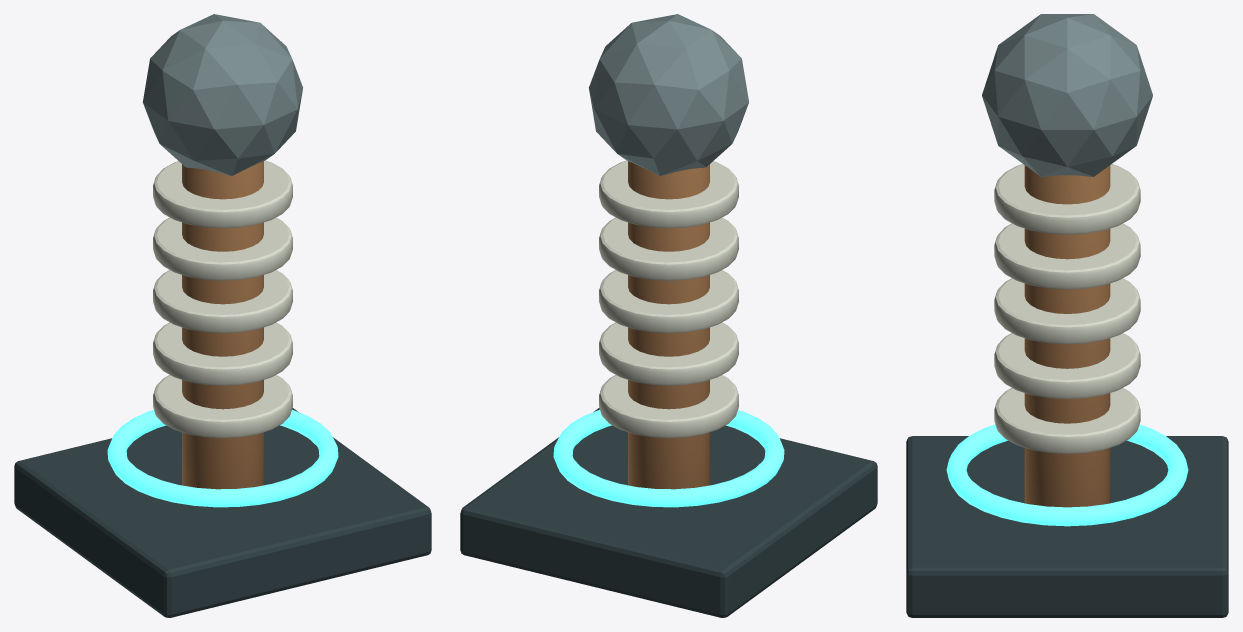
File: SM_ElectrodePylon.fbx
The picture shows the model from 3 angles, left to right: view 1: azimuth 30°, elevation 25°; view 2: azimuth 150°, elevation 25°; view 3: azimuth 270°, elevation 25°; orthographic projection. The views are drawn at different scales.
Visible parts, largest first — view 1: SM_ElectrodePylon; view 2: SM_ElectrodePylon; view 3: SM_ElectrodePylon.
Boxes of the visible parts, box(x1,y1,x2,y2) form: SM_ElectrodePylon: box(14, 14, 431, 617); SM_ElectrodePylon: box(460, 14, 877, 617); SM_ElectrodePylon: box(906, 14, 1228, 617).
Size of what is drawn, in the model's own units: 0.64 by 0.64 by 1.17.
